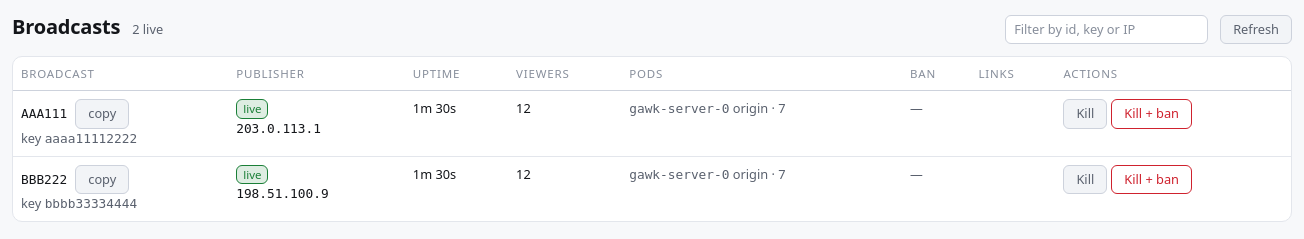
Test: the filter › says the filter matched nothing rather than "nothing is broadcasting"
Check: the text "AAA111" is shown, box [21,104,67,124]
Type "zzz" into the search field named "Filter broadcasts".
click(1107, 30); type("zzz")  # box [1005,15,1208,44]
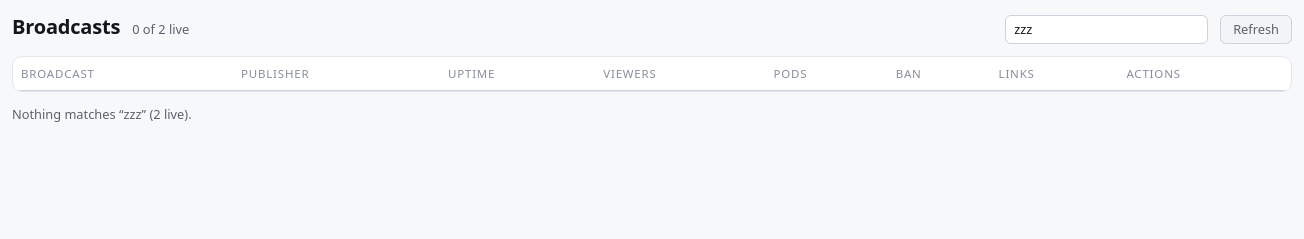
Check: the text "Nothing matches “zzz” (2 live)." is shown, box [12,105,192,123]
